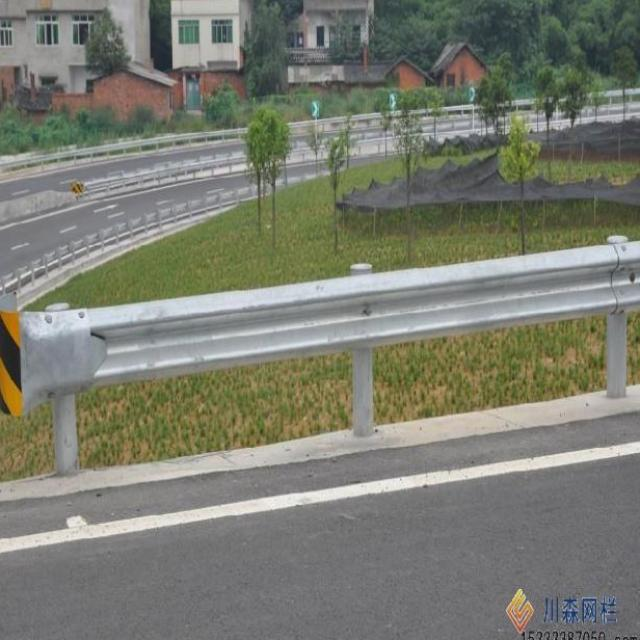Guard rail: (0, 242, 640, 414), (0, 186, 253, 294), (0, 128, 246, 173), (84, 151, 246, 197)
